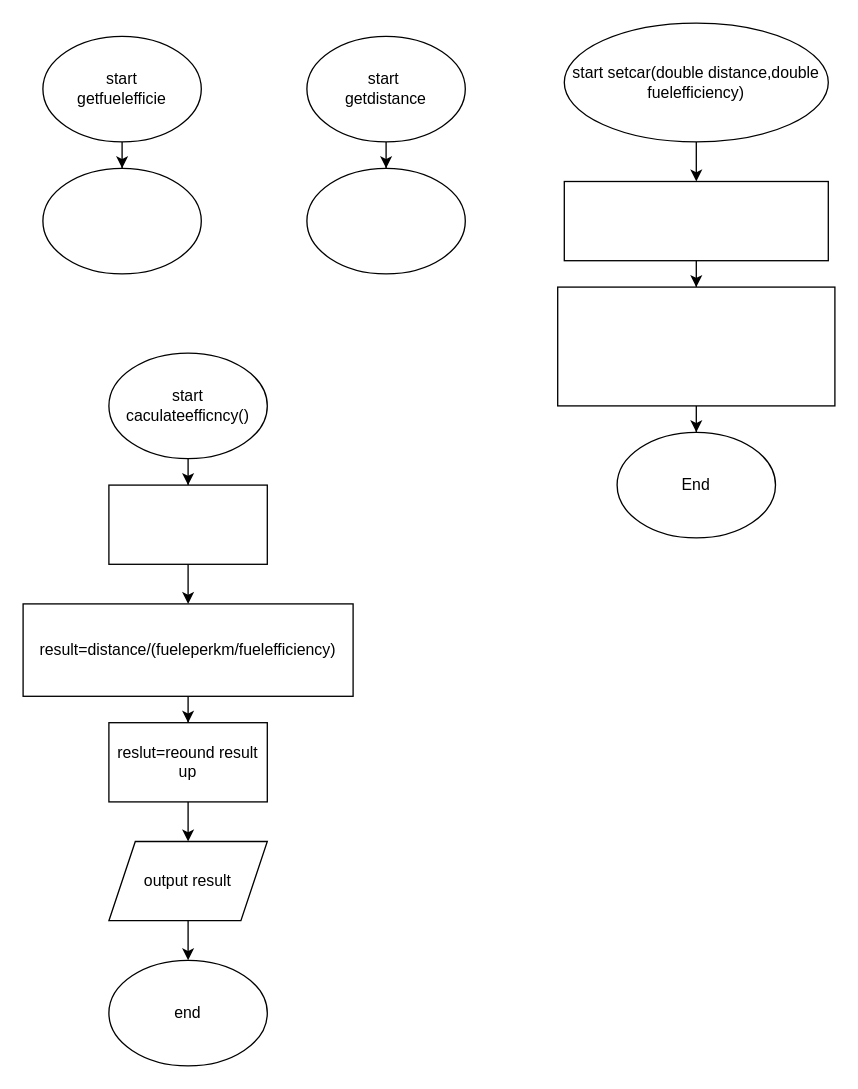
The diagram is 858 pixels wide and 1089 high, and some of its shapes have lost their labels. Here are the shapes that lost their labels. From the top down, the box of each, then its label:
(42, 167, 201, 274): return fuelefficiency
(306, 167, 465, 274): Return distance
(563, 180, 828, 261): initilaize distance=distance
(556, 286, 835, 406): initilaize fuelefficiency= fuelefficiency
(108, 484, 267, 564): declare double result
